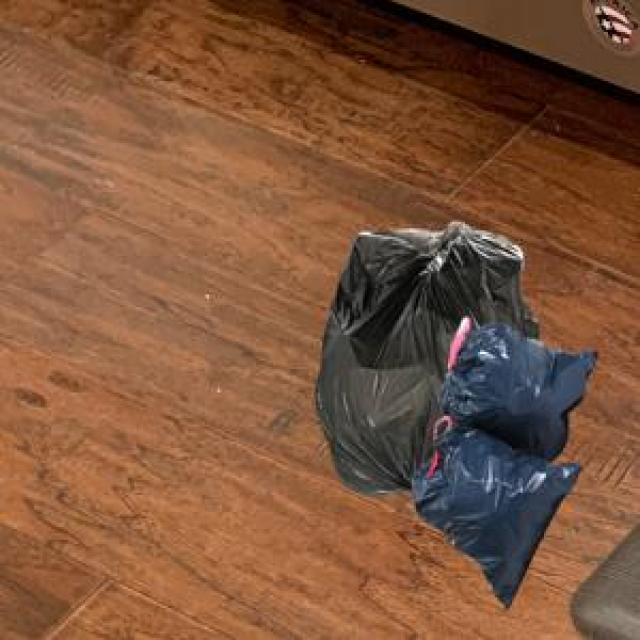waste: (316, 222, 596, 604)
